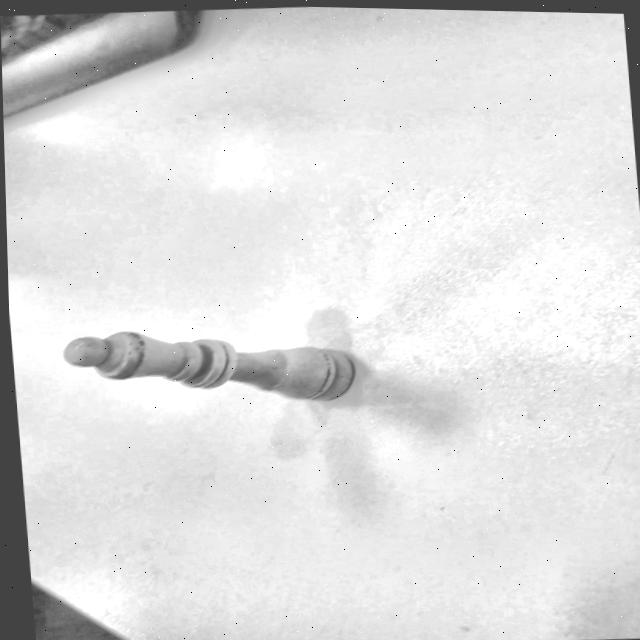white-queen: (31, 310, 389, 417)
